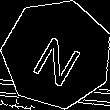N_NE: (27, 22, 87, 86)
